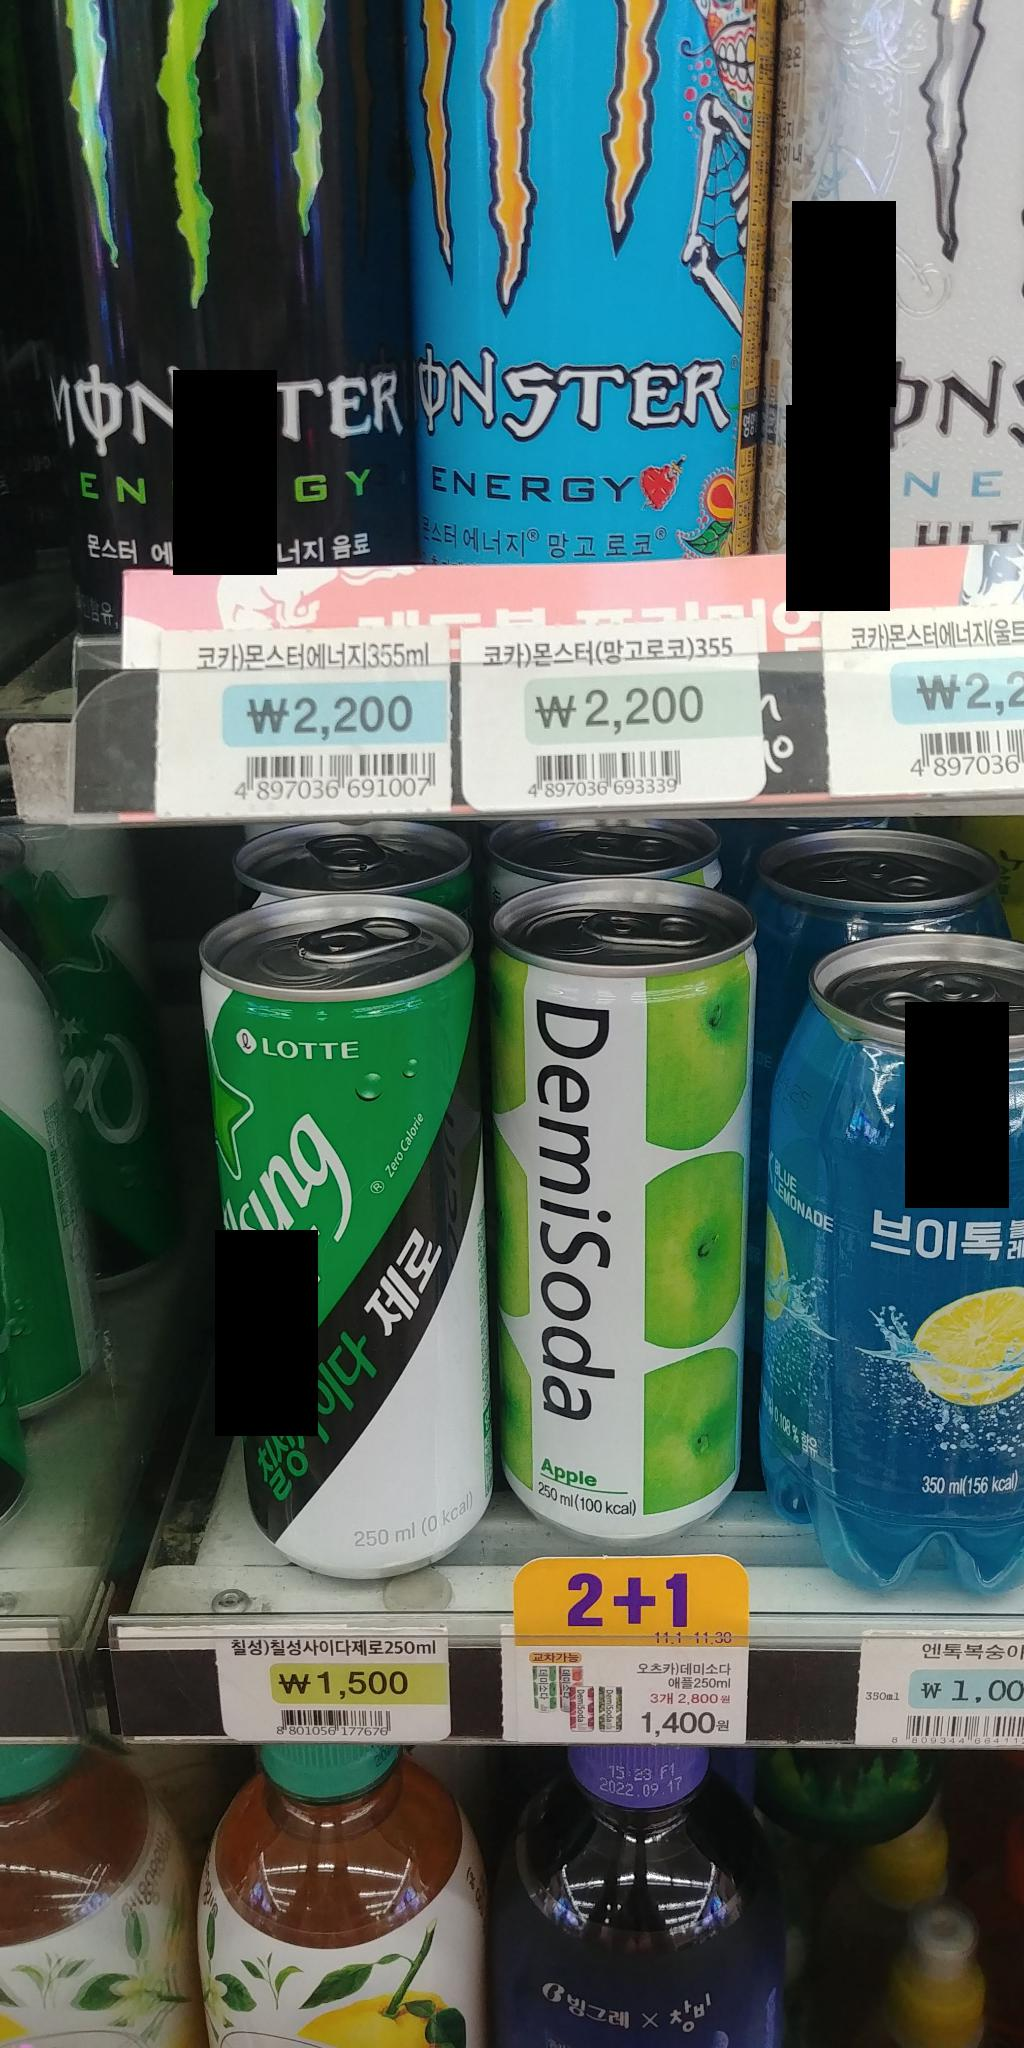chilsungcider_zero: (182, 891, 507, 1586)
